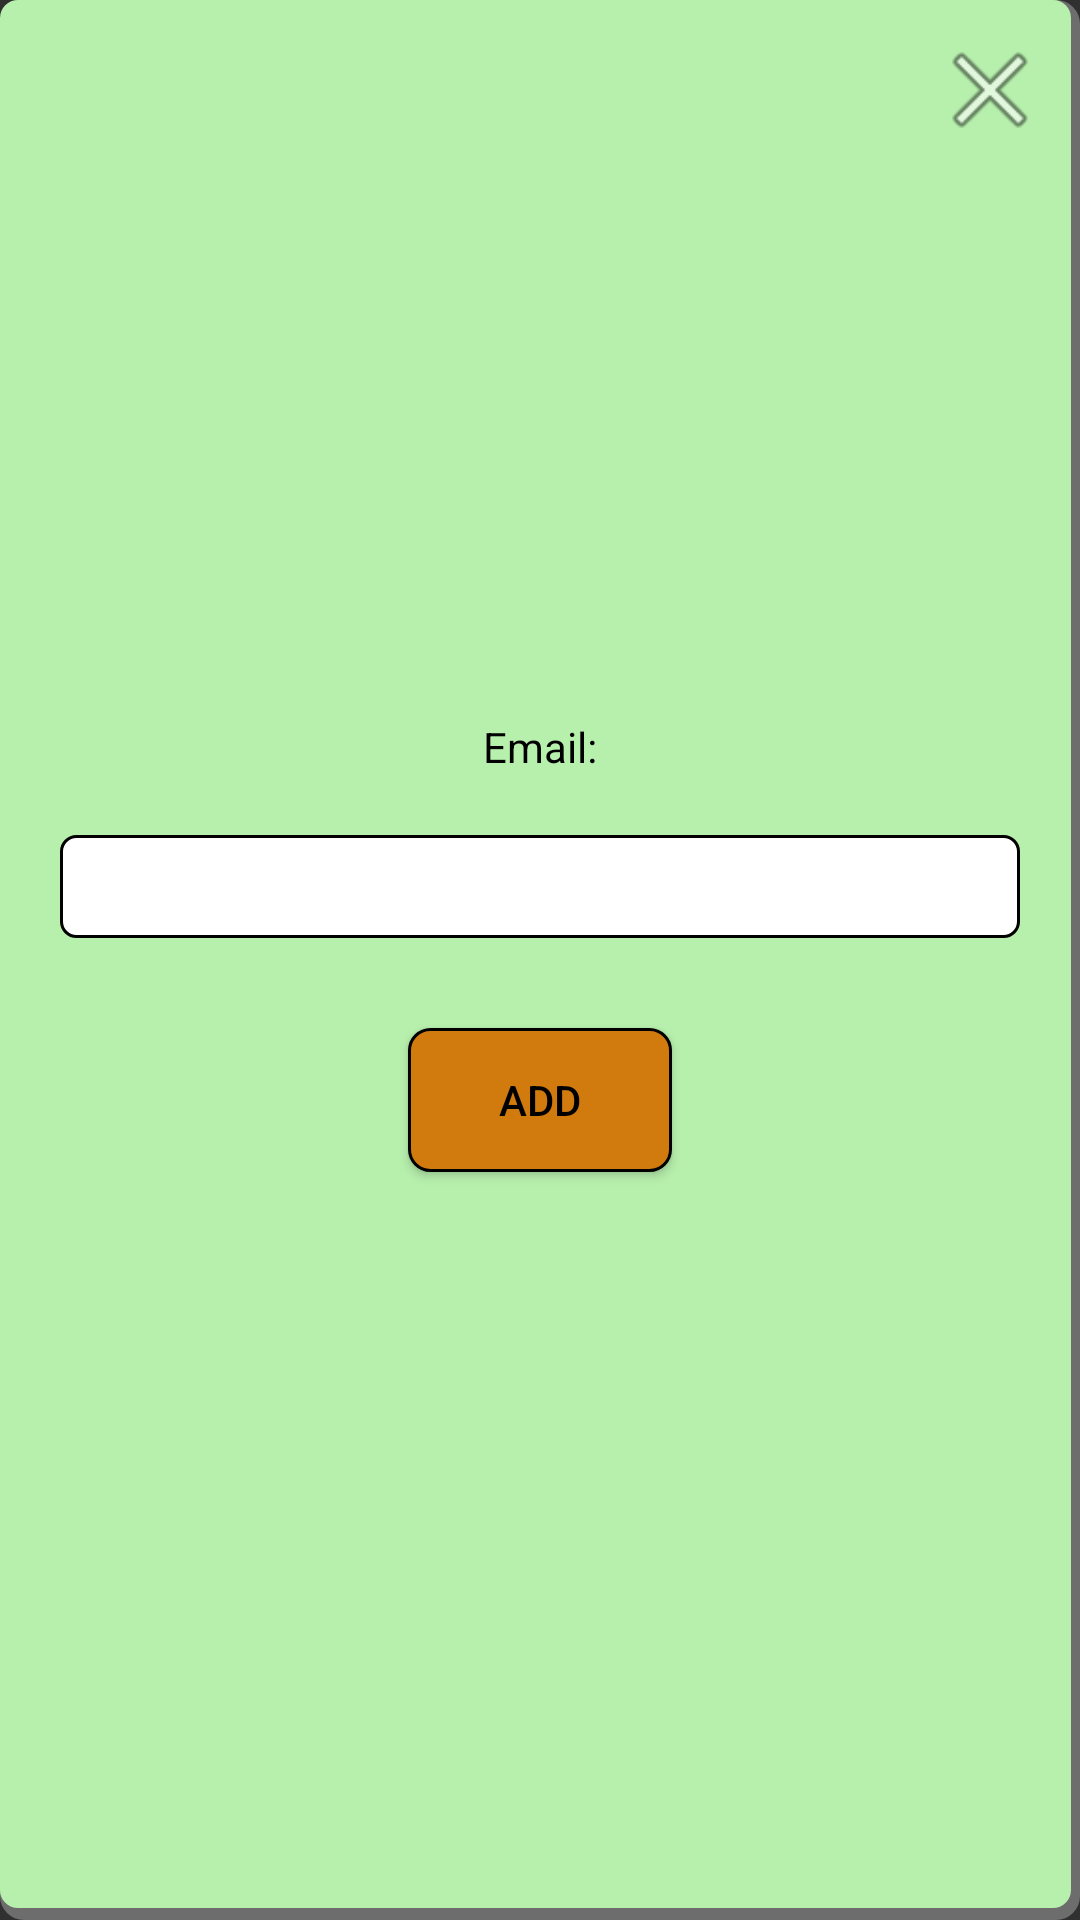

Point at icon controls on the screen. Image size 1080px×1920px, points as point (x, y).
close clear cancel: point (990, 90)
